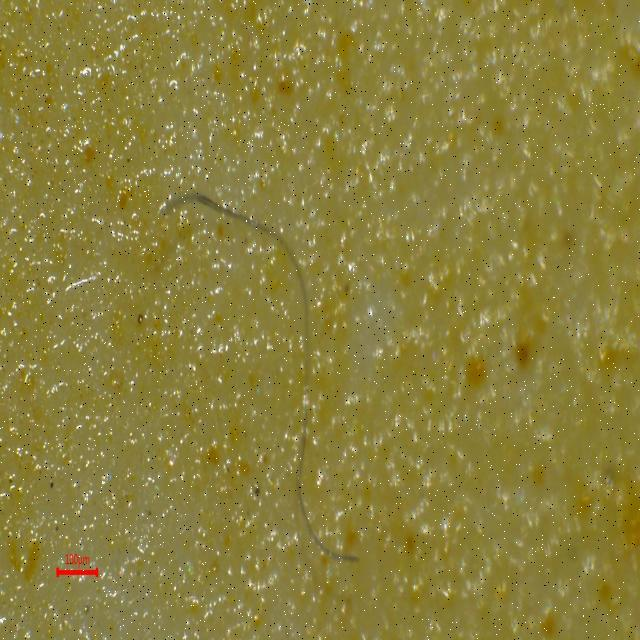fibers: (151, 160, 428, 576)
